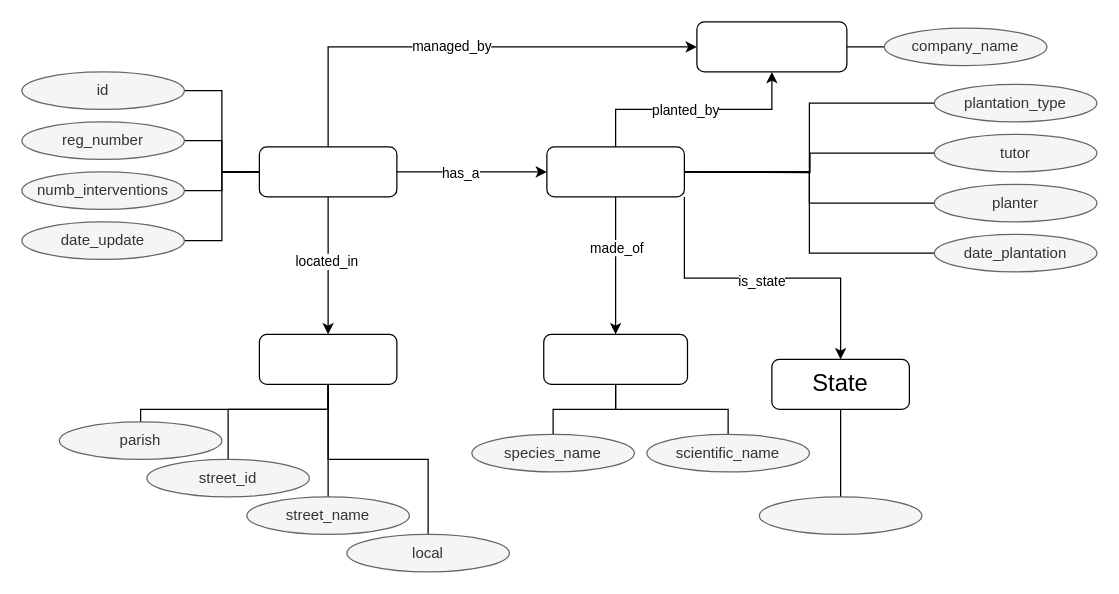
Image size: 1119x594. Some labels were removed from this diagram. The centre of each missing label's shape, as x and y in pixels:
"Company" belongs at (x=771, y=46).
"Location" belongs at (x=327, y=358).
"name_state" belongs at (x=840, y=515).
"Plantation" belongs at (x=615, y=171).
"Register" belongs at (x=327, y=171).
"Species" belongs at (x=615, y=358).
